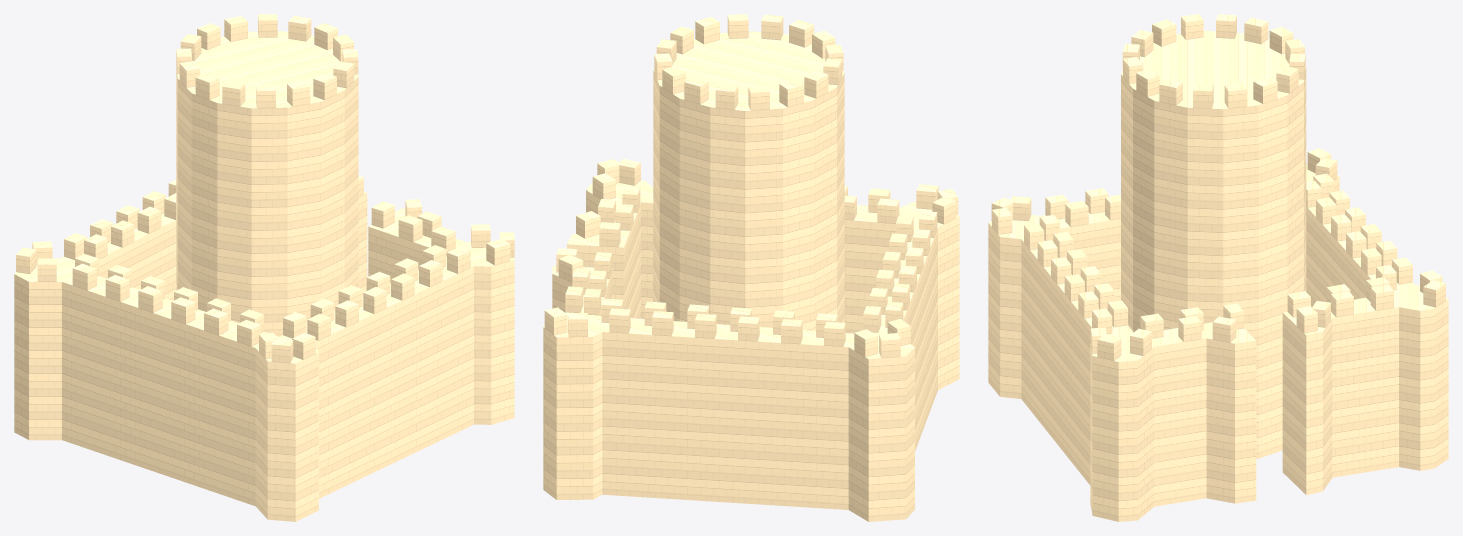
The model's file is landmark-mardakan-round-castle.glb.
The picture shows the model from 3 angles, left to right: view 1: azimuth 30°, elevation 25°; view 2: azimuth 150°, elevation 25°; view 3: azimuth 270°, elevation 25°; orthographic projection. The views are drawn at different scales.
Visible parts, largest first — view 1: mardakan-round-castle; view 2: mardakan-round-castle; view 3: mardakan-round-castle.
Boxes of the visible parts, x1=… form: mardakan-round-castle: x1=14, y1=14, x2=514, y2=521; mardakan-round-castle: x1=543, y1=14, x2=959, y2=521; mardakan-round-castle: x1=988, y1=14, x2=1448, y2=521.
Size of the model in its own units: 22.01 by 19.17 by 21.6.
Materials: 1 (1 with a texture image).
